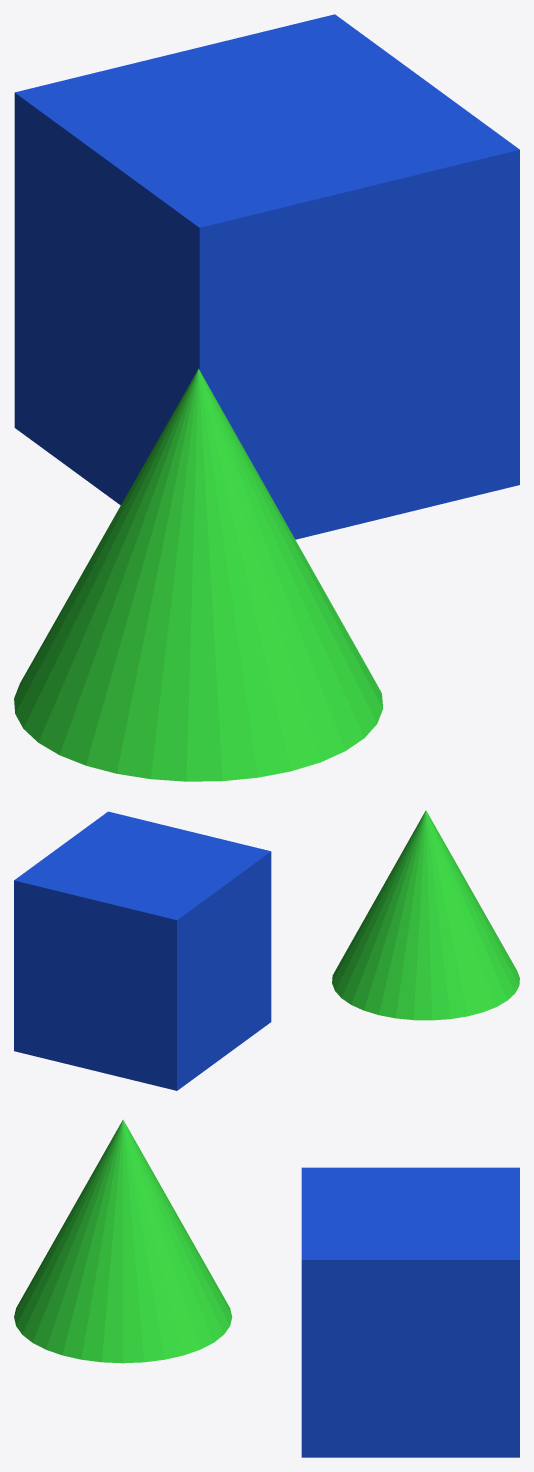
File: myTestColor.gltf
The picture shows the model from 3 angles, top to bottom: view 1: azimuth 30°, elevation 25°; view 2: azimuth 150°, elevation 25°; view 3: azimuth 270°, elevation 25°; orthographic projection. The views are drawn at different scales.
Parts seen in each view (by area): view 1: 立方体, 锥体; view 2: 立方体, 锥体; view 3: 立方体, 锥体.
Boxes of the visible parts, box(x1,y1,x2,y2) form: 立方体: box(14, 14, 519, 539); 锥体: box(14, 368, 383, 781); 立方体: box(14, 811, 271, 1090); 锥体: box(332, 810, 519, 1020); 立方体: box(301, 1167, 519, 1457); 锥体: box(14, 1119, 232, 1363).
Size of the model in its own units: 3.95 by 2.04 by 4.64.
